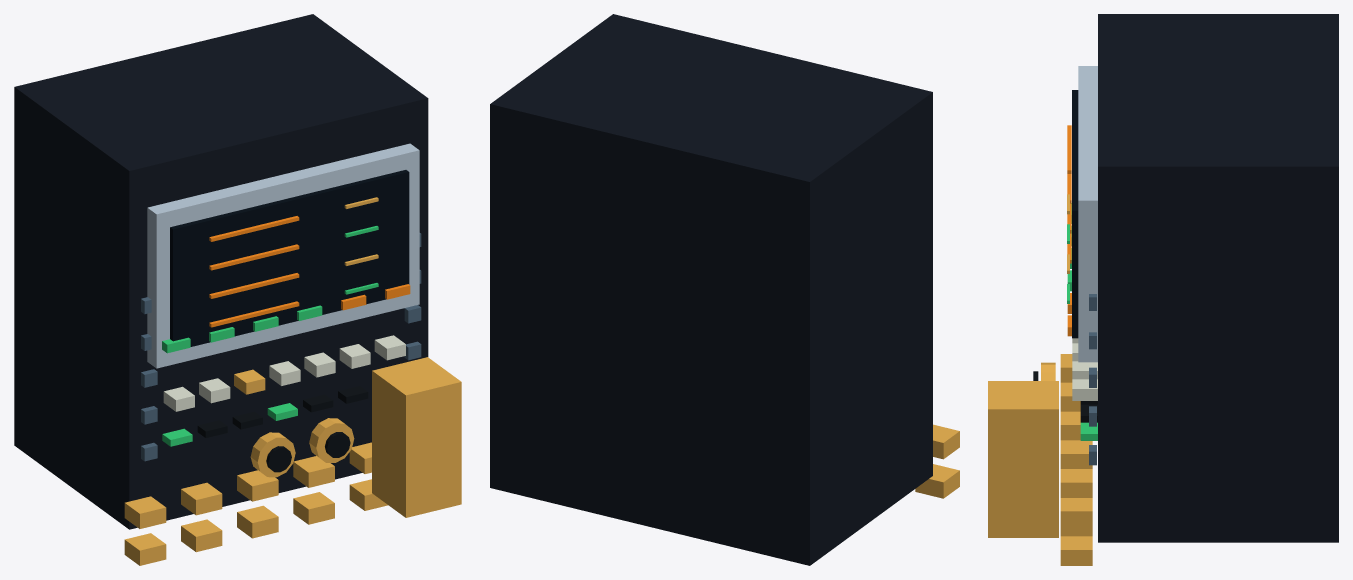
File: 49_L92_BitJamRecoveryActuator.fbx
The picture shows the model from 3 angles, left to right: view 1: azimuth 30°, elevation 25°; view 2: azimuth 150°, elevation 25°; view 3: azimuth 270°, elevation 25°; orthographic projection. The views are drawn at different scales.
Visible parts, largest first — view 1: L92_BitJamRecoveryActuator, L92_BitJamRecoveryActuator_Part_0011, L92_BitJamRecoveryActuator_Part_0009, L92_BitJamRecoveryActuator_Part_0012, L92_BitJamRecoveryActuator_Part_0014, L92_BitJamRecoveryActuator_Part_0010; view 2: L92_BitJamRecoveryActuator; view 3: L92_BitJamRecoveryActuator, L92_BitJamRecoveryActuator_Part_0011.
Part boxes in pixels (<box>): L92_BitJamRecoveryActuator: <box>14,14,428,565</box>; L92_BitJamRecoveryActuator_Part_0011: <box>372,357,461,517</box>; L92_BitJamRecoveryActuator_Part_0009: <box>162,305,322,353</box>; L92_BitJamRecoveryActuator_Part_0012: <box>250,432,295,477</box>; L92_BitJamRecoveryActuator_Part_0014: <box>309,418,354,462</box>; L92_BitJamRecoveryActuator_Part_0010: <box>341,284,410,310</box>; L92_BitJamRecoveryActuator: <box>490,14,959,565</box>; L92_BitJamRecoveryActuator: <box>1060,14,1338,565</box>; L92_BitJamRecoveryActuator_Part_0011: <box>988,381,1058,537</box>.
Size of the model in its own units: 105 by 124 by 99.
